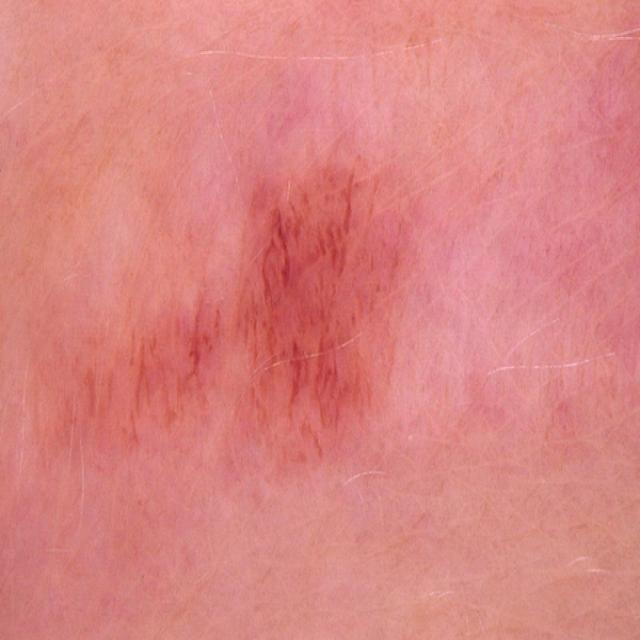NV: (64, 152, 415, 479)
